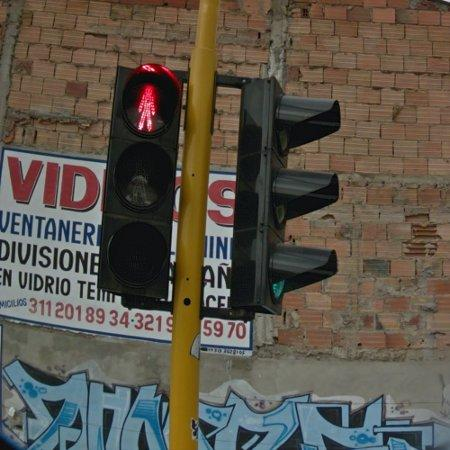traffic lights: (98, 64, 182, 300)
